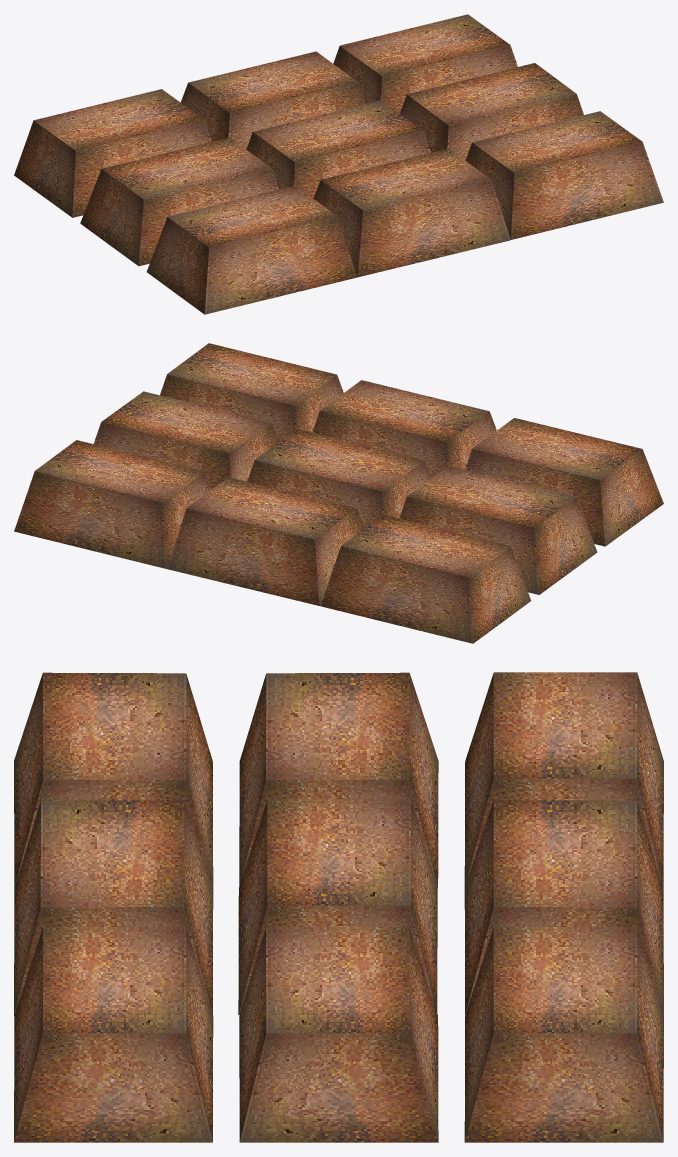
Rendered from iron_9.glb.
3 views of the same model, one above another, from view 1: azimuth 30°, elevation 25°; view 2: azimuth 150°, elevation 25°; view 3: azimuth 270°, elevation 25° (orthographic). The views are drawn at different scales.
Visible parts, largest first — view 1: iron01.001; view 2: iron01.001; view 3: iron01.001.
Boxes of the visible parts, x1,y1,x2,y2 form: iron01.001: (14,14,663,314); iron01.001: (14,343,663,643); iron01.001: (14,672,663,1142).
Bounding box in the file's own units: 189 × 22.94 × 136.
1 material, 1 textured.
